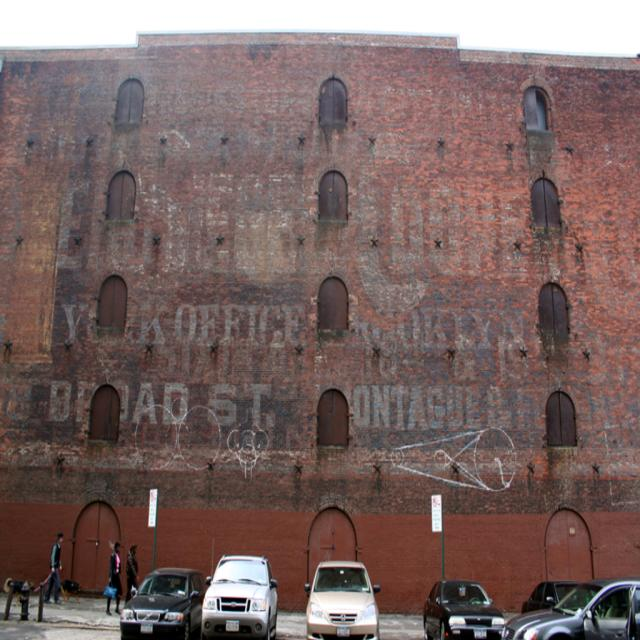Passenger Car: (507, 577, 640, 639), (197, 555, 282, 637), (299, 557, 382, 637), (116, 568, 204, 637), (420, 577, 502, 637)
Pedestrians: (104, 538, 125, 616), (48, 526, 64, 607)
